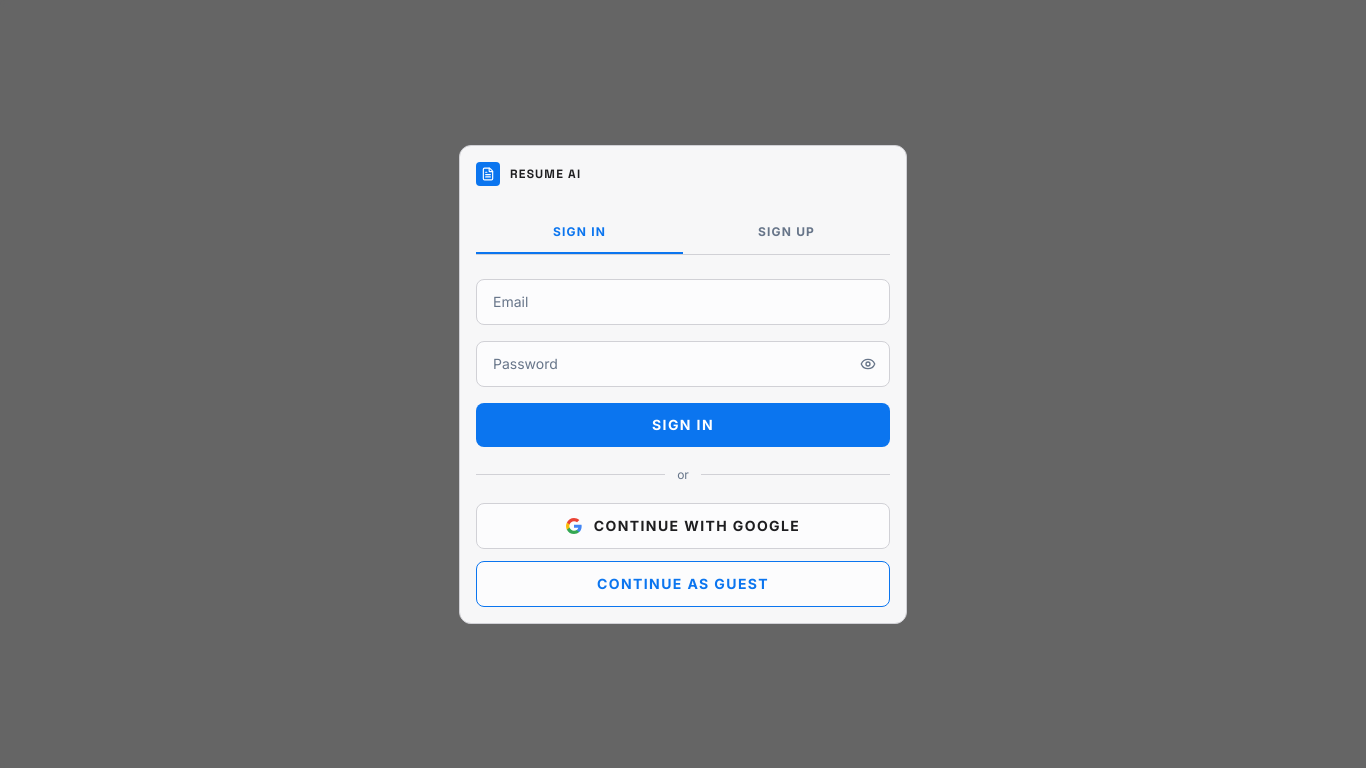
Test: AuthModal — tab switching › switches to Sign Up tab on click
The width and height of the screenshot is (1366, 768).
Click the button "Sign Up" at [786, 232], box [683, 210, 890, 254]
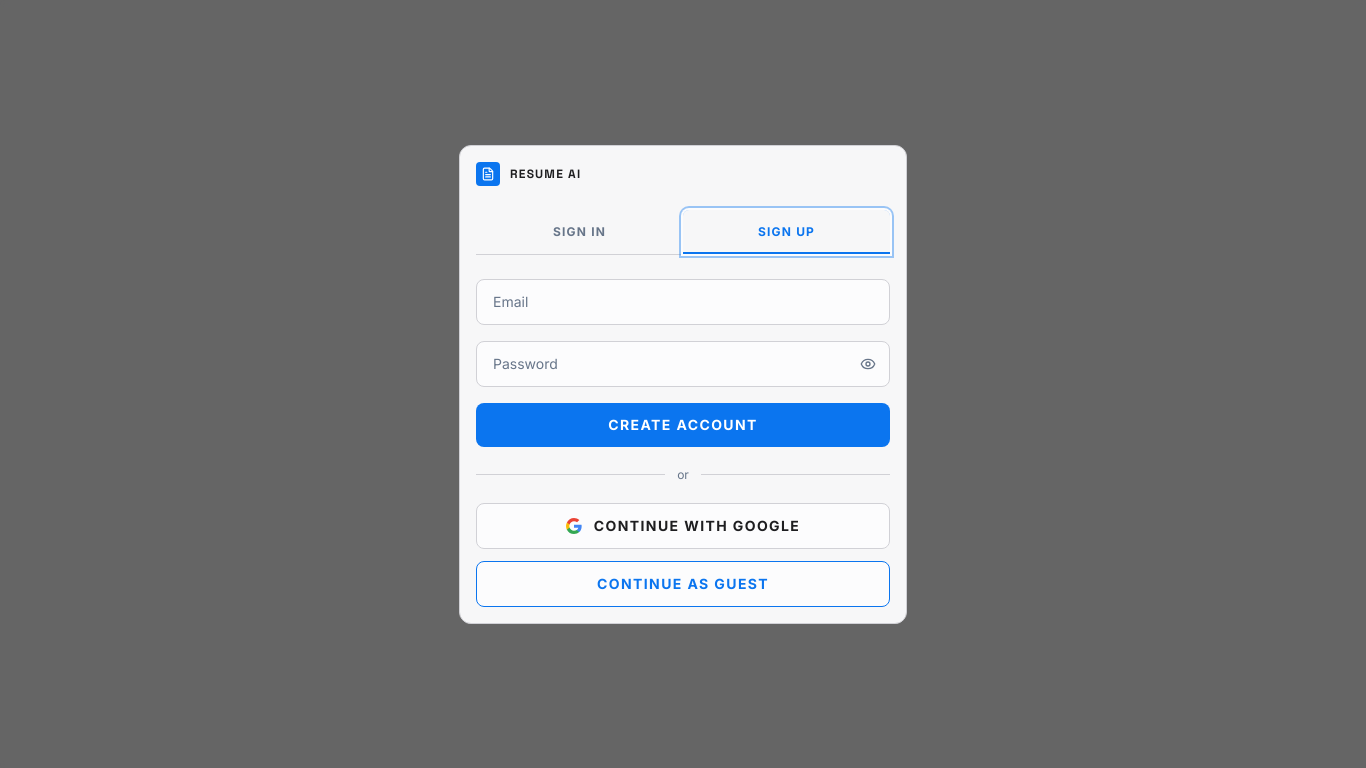
Expected: the button "Create Account" is shown, [476, 402, 890, 446]
